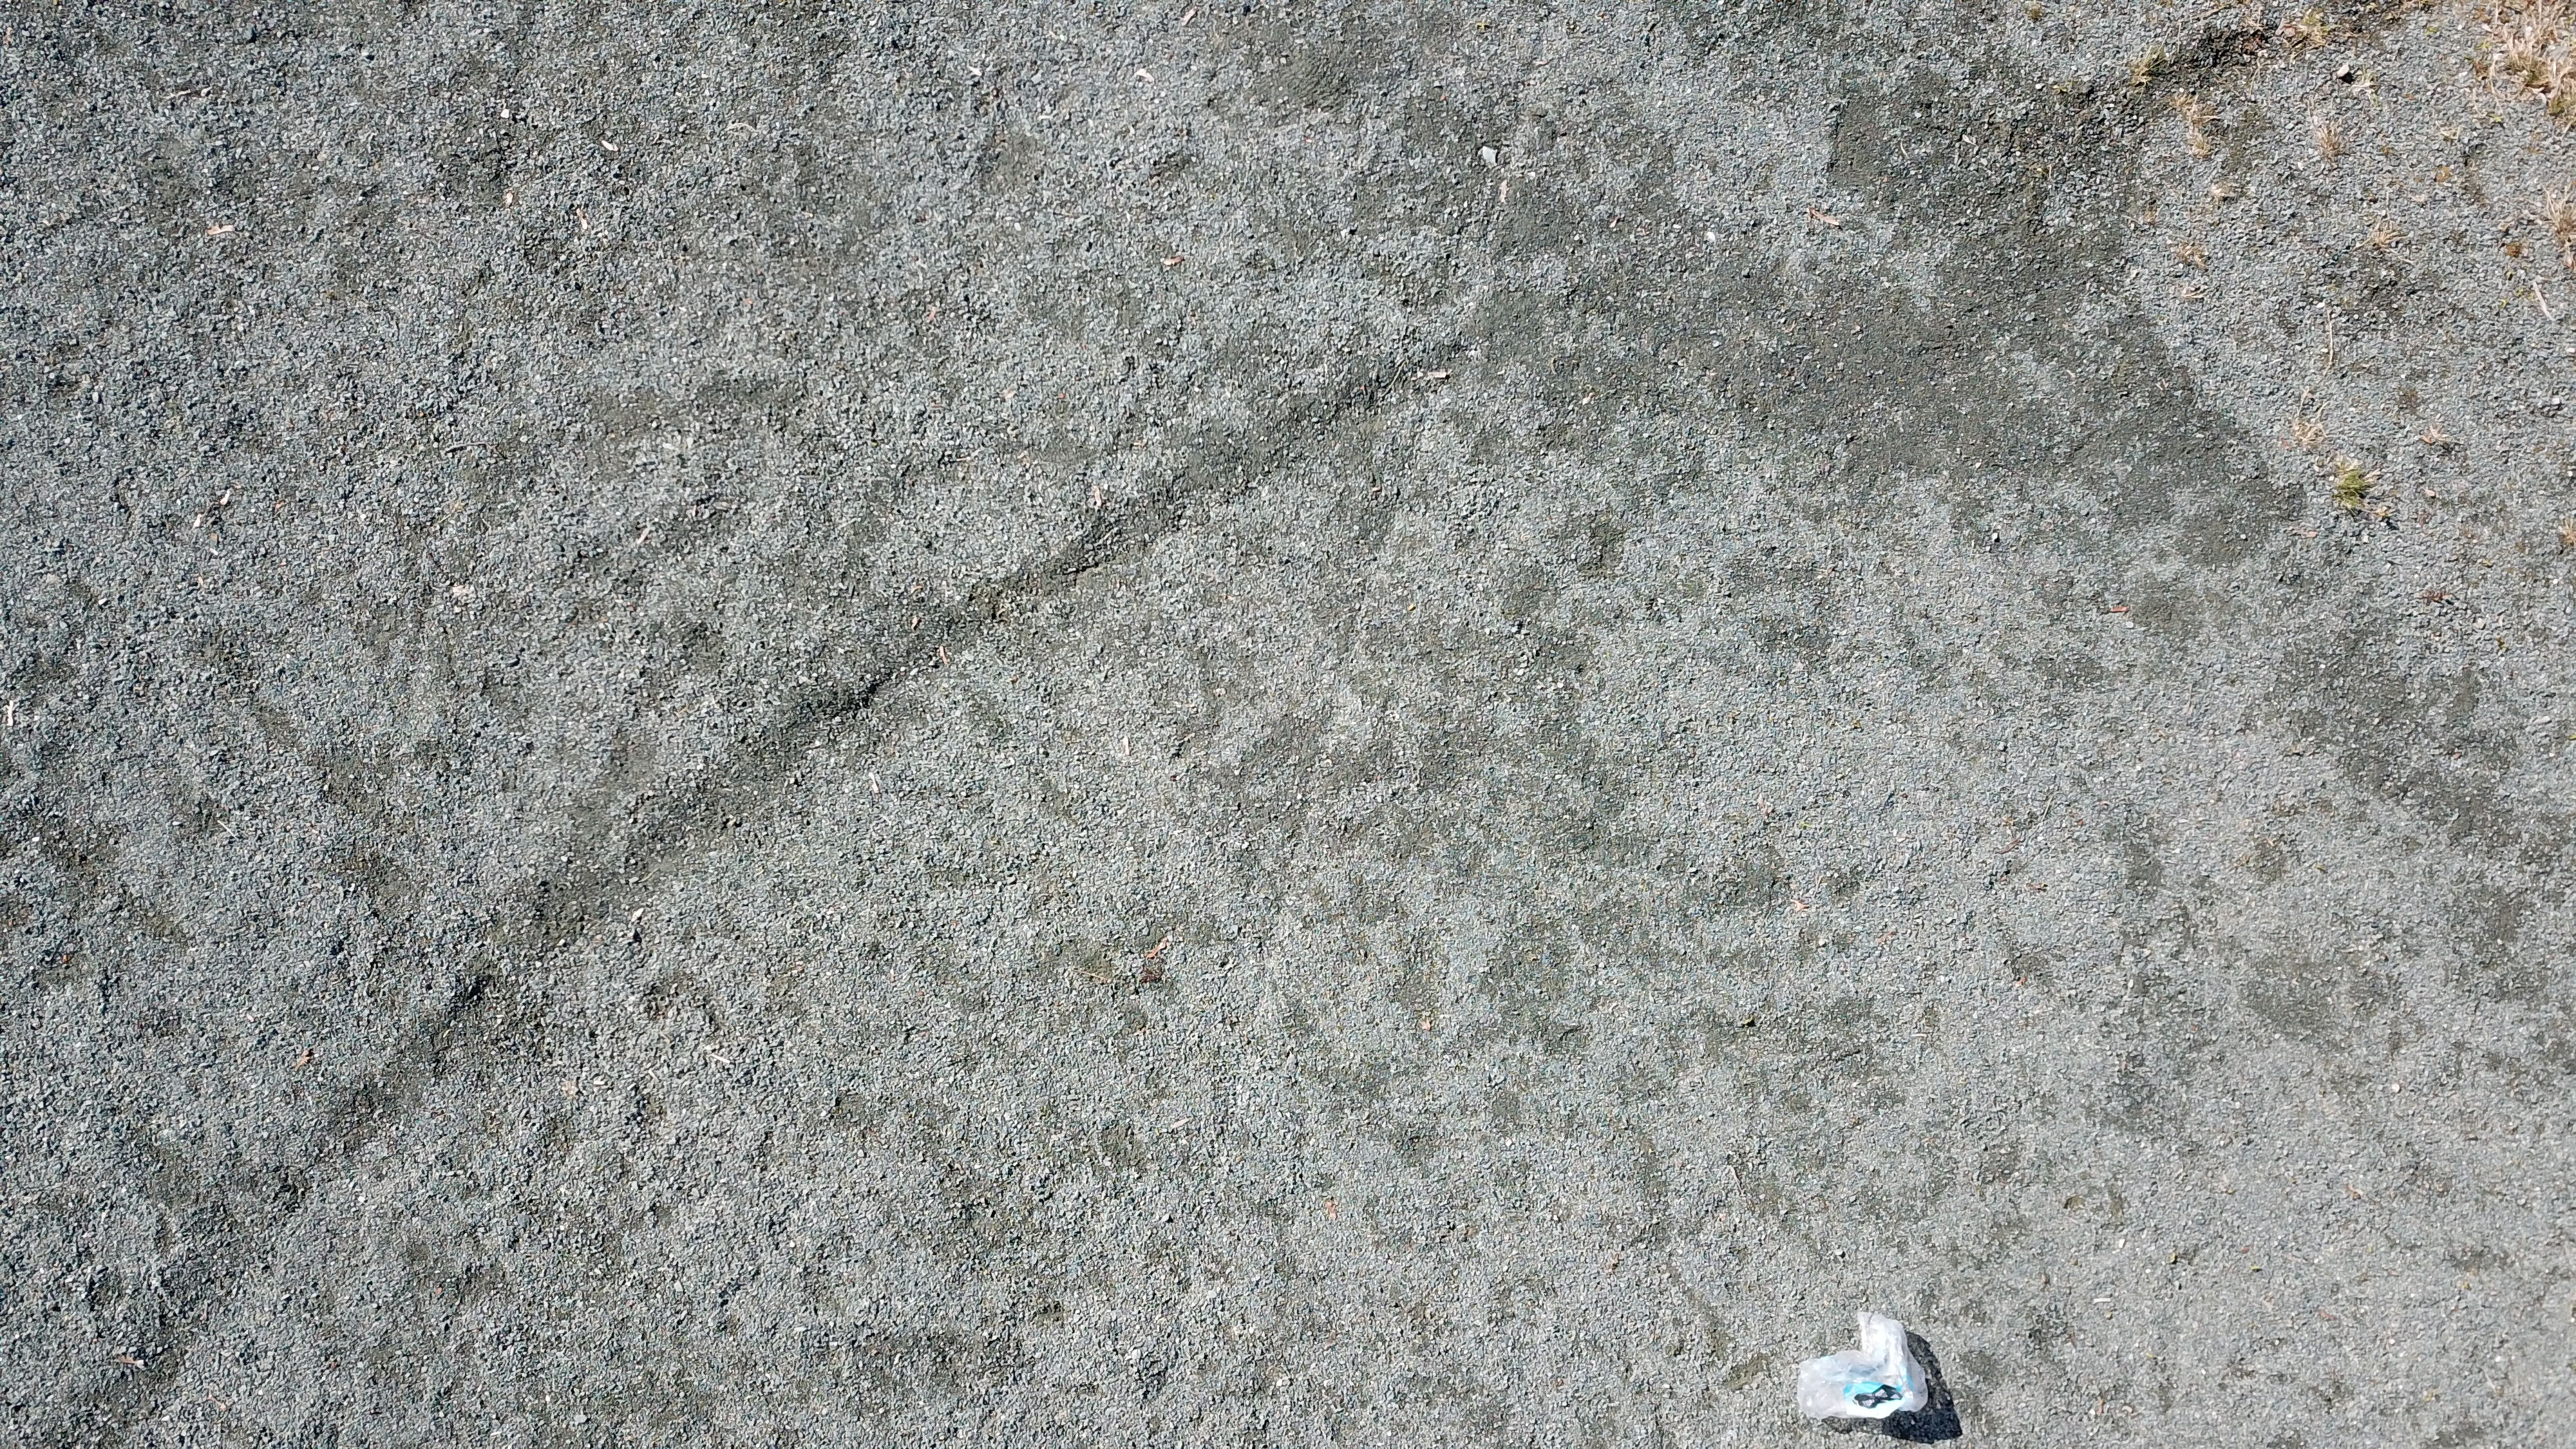Plastic: (1794, 1309, 1930, 1435)
